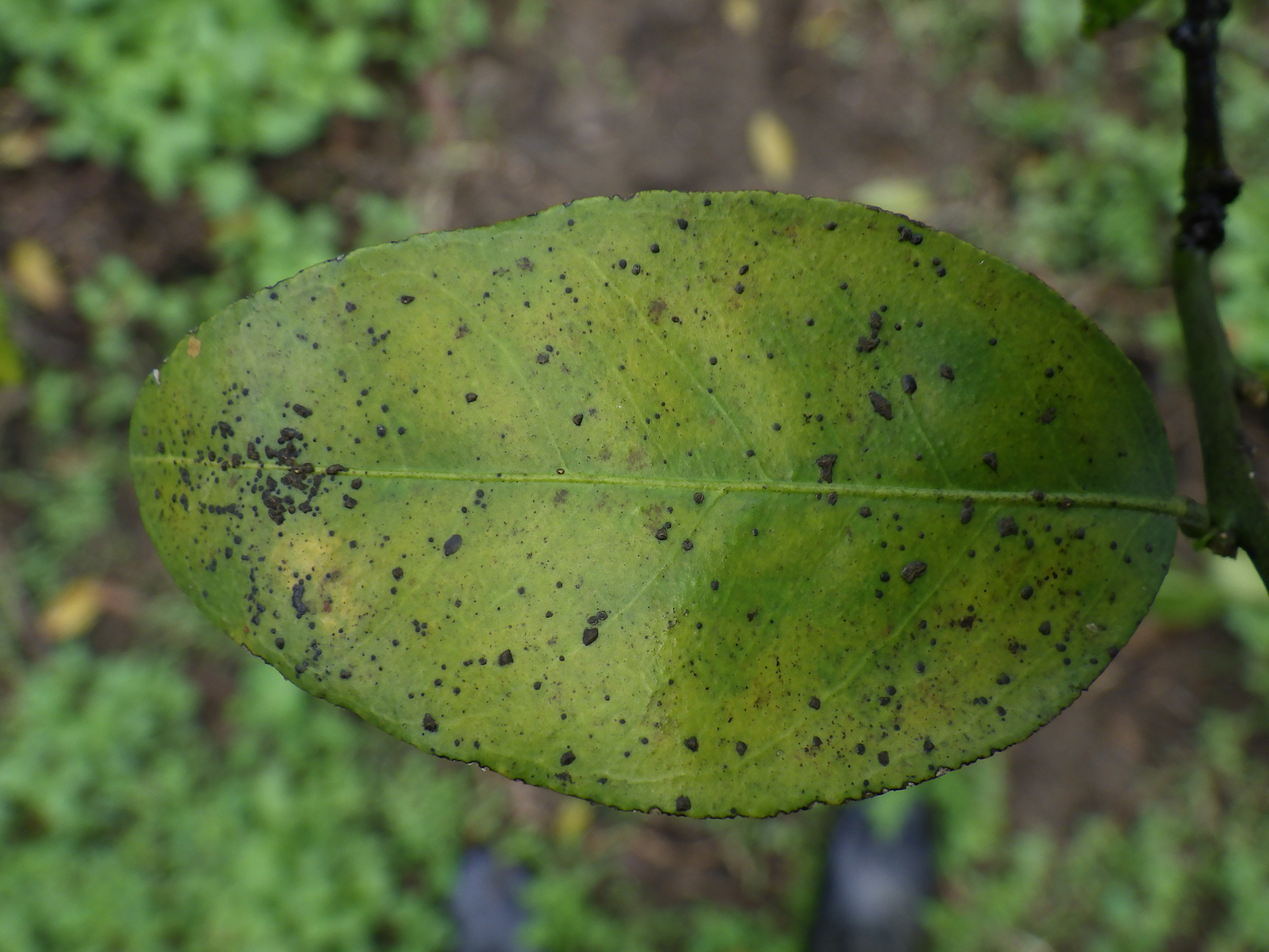Oily_Spot: (130, 192, 1234, 816)
